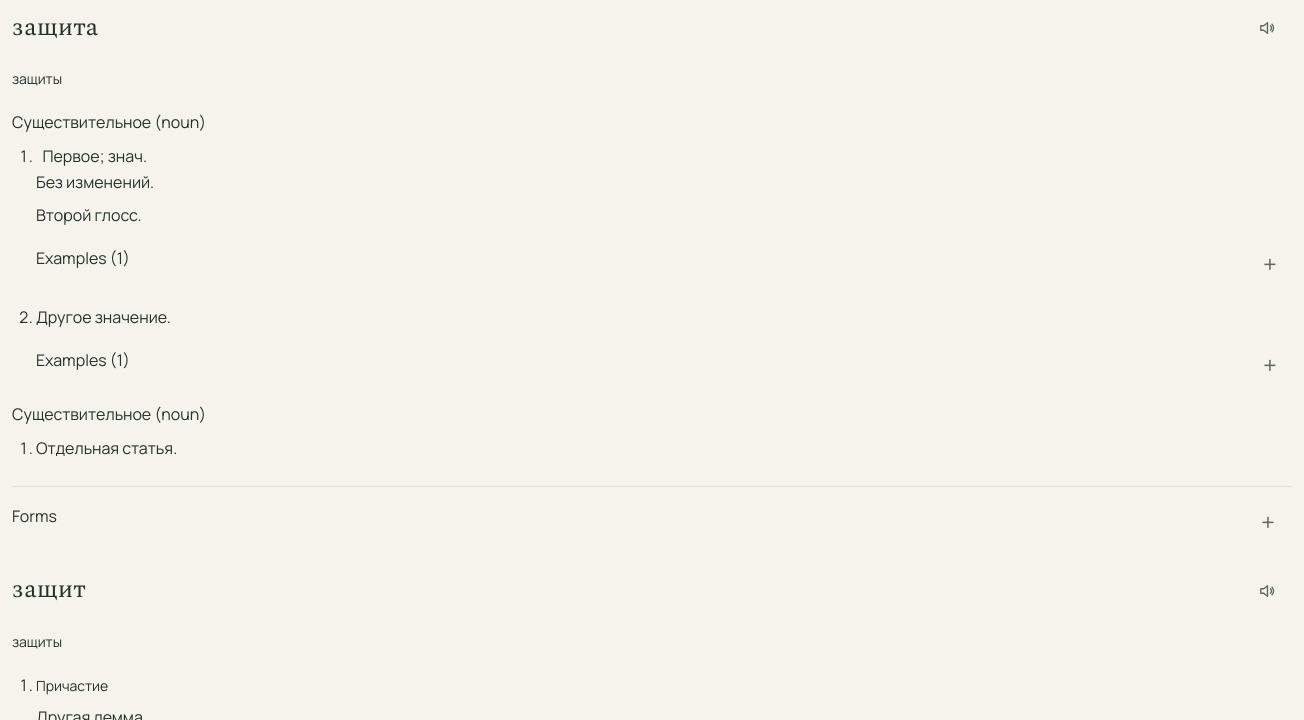
Scenario: dictionary presentation › keeps headwords, entries, glosses and examples separate and verbatim
expect the headings read "защита", "защит", in this order: met, box [12,8,98,48]; [12,570,86,611]
expect the number of headings "Существительное (noun)" is 2: met, box [12,111,206,133]; [12,403,206,425]
Step 1. Click the heading "Examples (1)" below "Первое; знач. Без изменений." → [71, 258], box [36,237,1292,281]
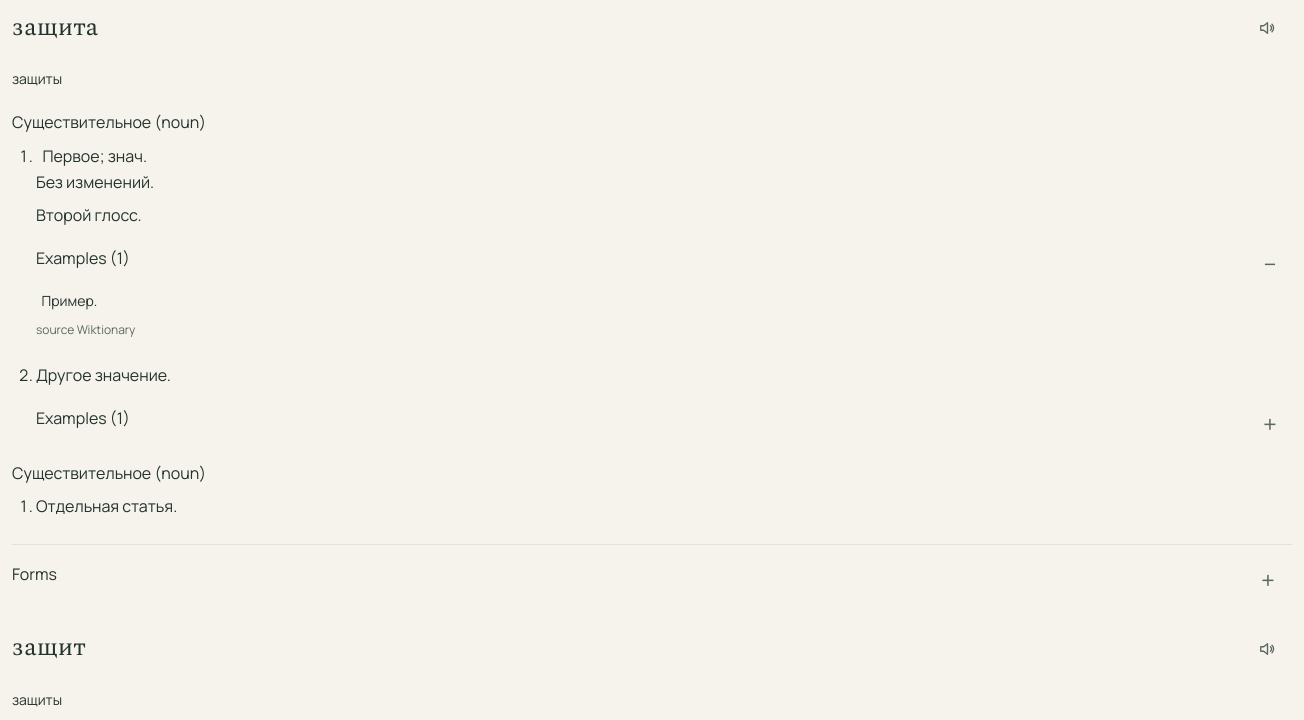
expect the 1st element with class "expand-control" is shown: met, box [1248,245,1292,273]
expect the text "Пример." is shown: met, box [36,291,103,310]
expect the footer reads "source Wiktionary": met, box [36,321,136,338]
